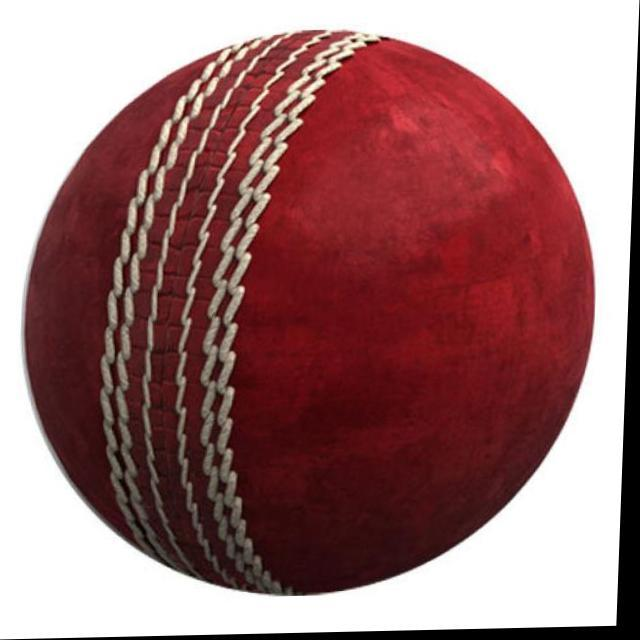cricket ball: (27, 30, 598, 599)
